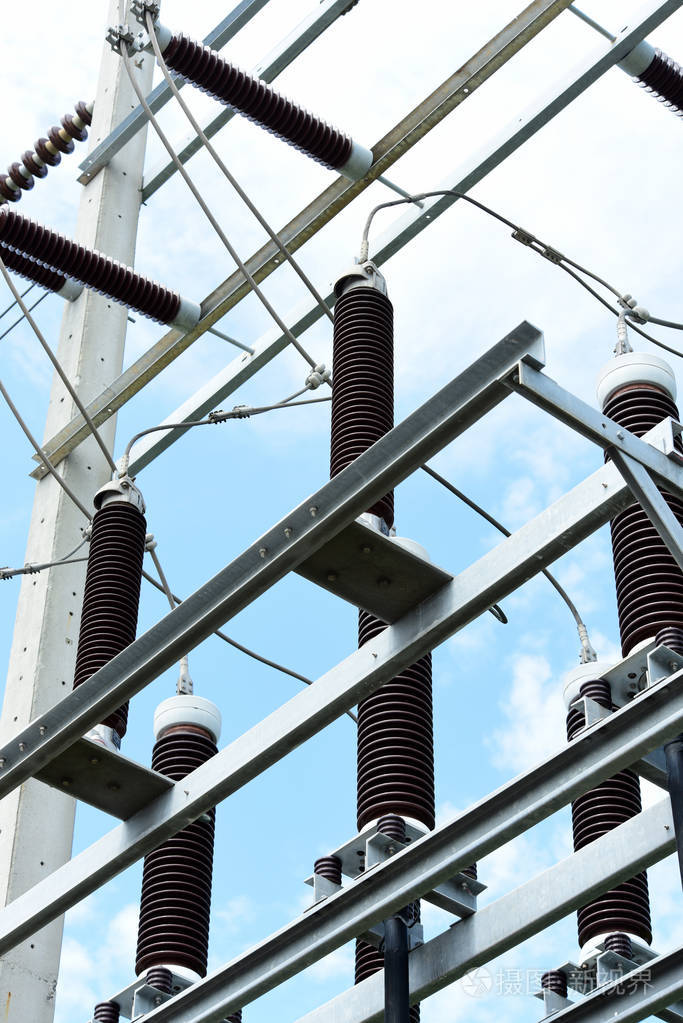insulator: (1, 99, 92, 202)
